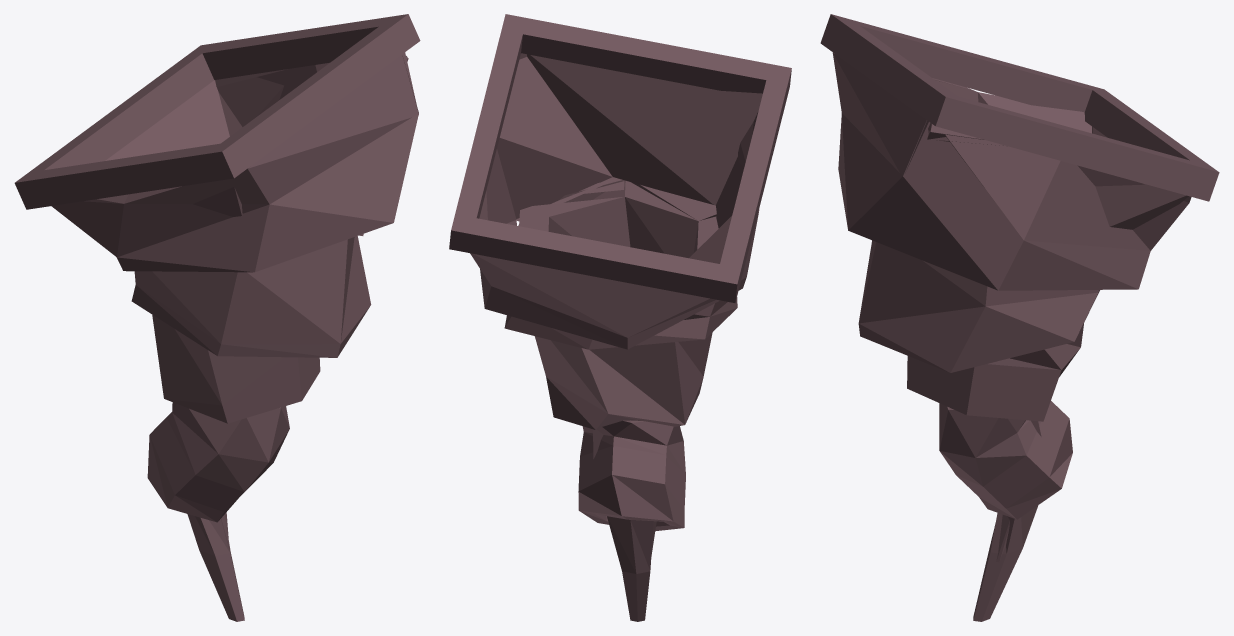
The model's file is charcoal tornado.fbx.
The picture shows the model from 3 angles, left to right: view 1: azimuth 30°, elevation 25°; view 2: azimuth 150°, elevation 25°; view 3: azimuth 270°, elevation 25°; orthographic projection. The views are drawn at different scales.
Visible parts, largest first — view 1: Square Button3; view 2: Square Button3; view 3: Square Button3.
Boxes of the visible parts, x1,y1,x2,y2 form: Square Button3: (14,14,420,621); Square Button3: (449,14,791,621); Square Button3: (820,14,1219,621).
Size of the model in its own units: 135 by 231 by 139.
